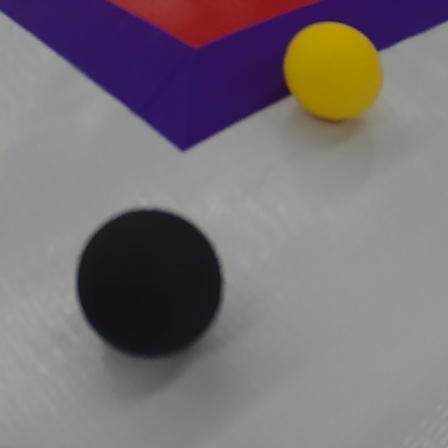black: (72, 205, 229, 356)
red_aim: (0, 0, 442, 158)
yellow: (280, 19, 387, 124)
